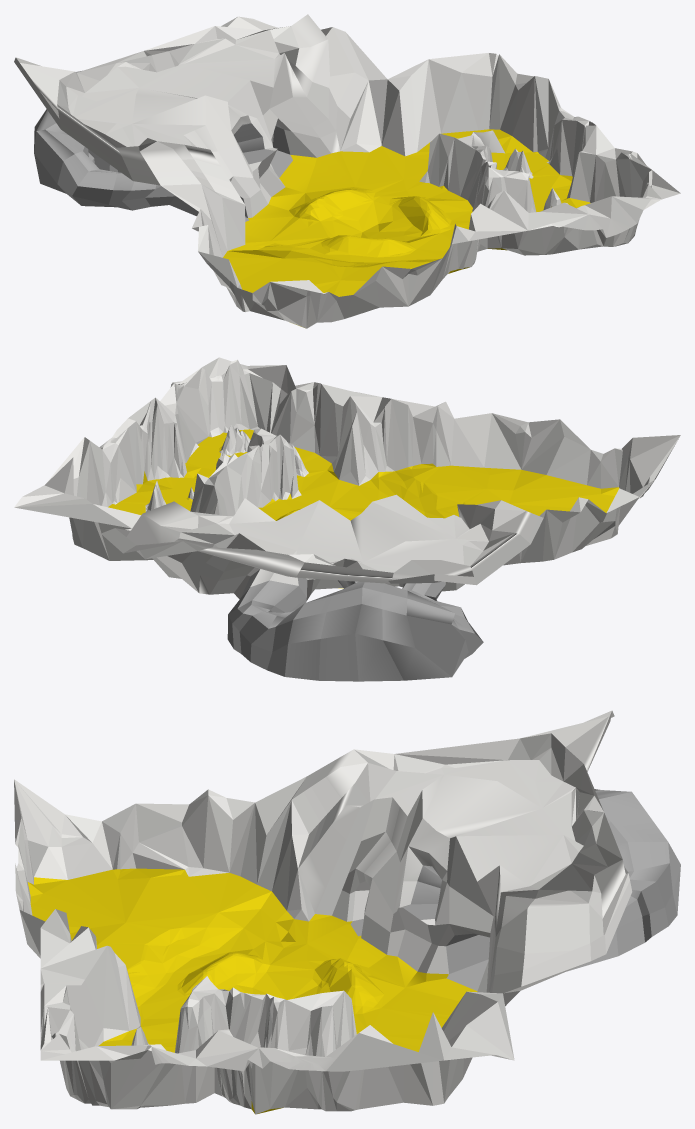
The model's file is amberNewmap.fbx.
3 views of the same model, one above another, from view 1: azimuth 30°, elevation 25°; view 2: azimuth 150°, elevation 25°; view 3: azimuth 270°, elevation 25° (orthographic). The views are drawn at different scales.
Visible parts, largest first — view 1: Mesh; view 2: Mesh; view 3: Mesh.
Boxes of the visible parts, <box> form: Mesh: <box>14,14,680,328</box>; Mesh: <box>14,357,680,681</box>; Mesh: <box>14,710,680,1114</box>.
Size of the model in its own units: 659 by 188 by 704.
